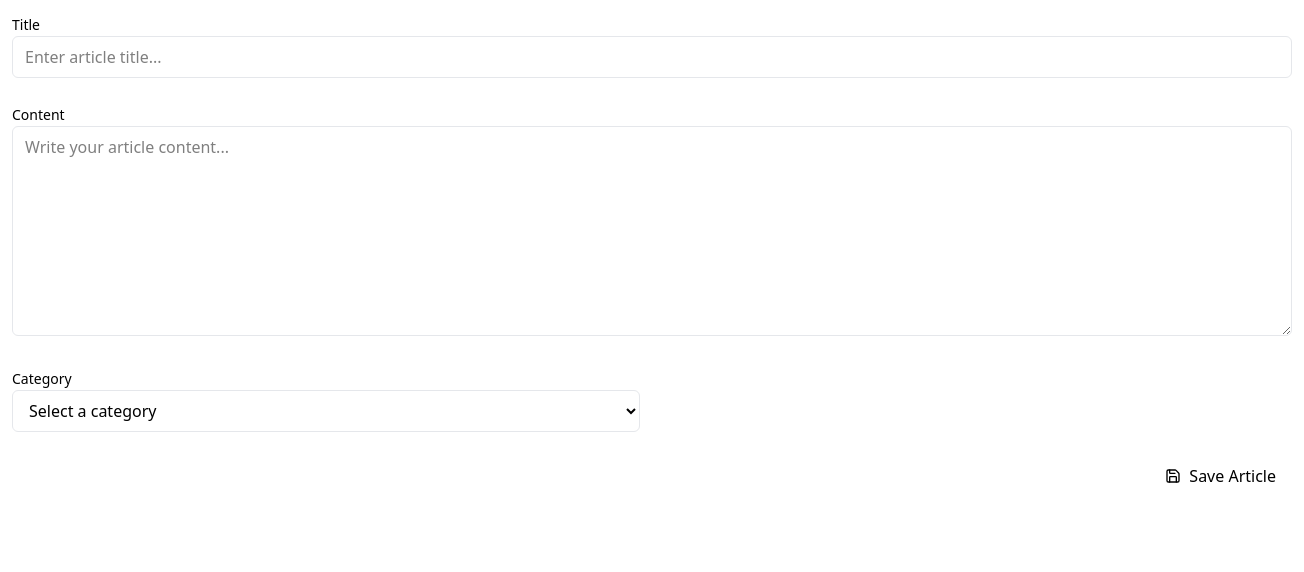
Test: ArticleForm › validates required fields
# Buscamos el botón de envío por su texto (asegúrate que el texto sea exactamente "Save Article")
Click the button "Save Article".
click(1221, 476)  # box [1149,456,1292,496]
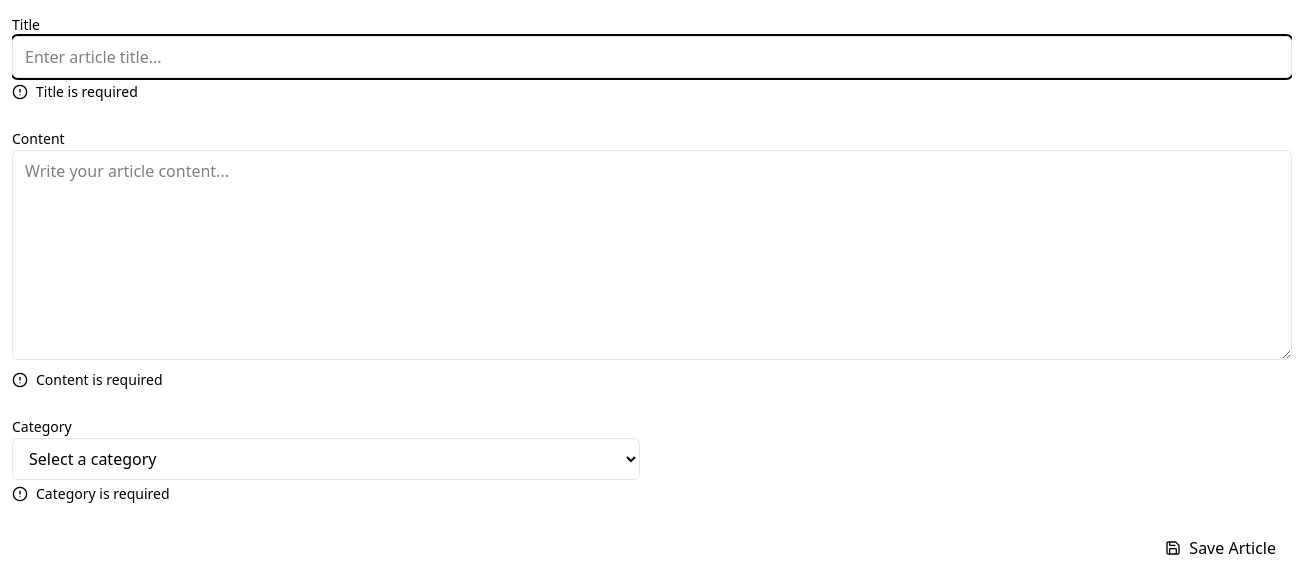
Expected: the text "Title is required" is shown, [36,82,138,102]
Expected: the text "Content is required" is shown, [36,370,162,390]
Expected: the text "Category is required" is shown, [36,484,170,504]
